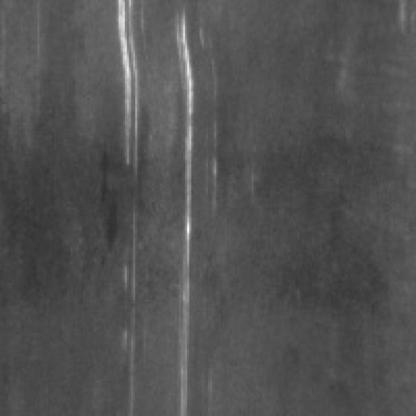scratches: (160, 2, 198, 412), (104, 0, 143, 168)
